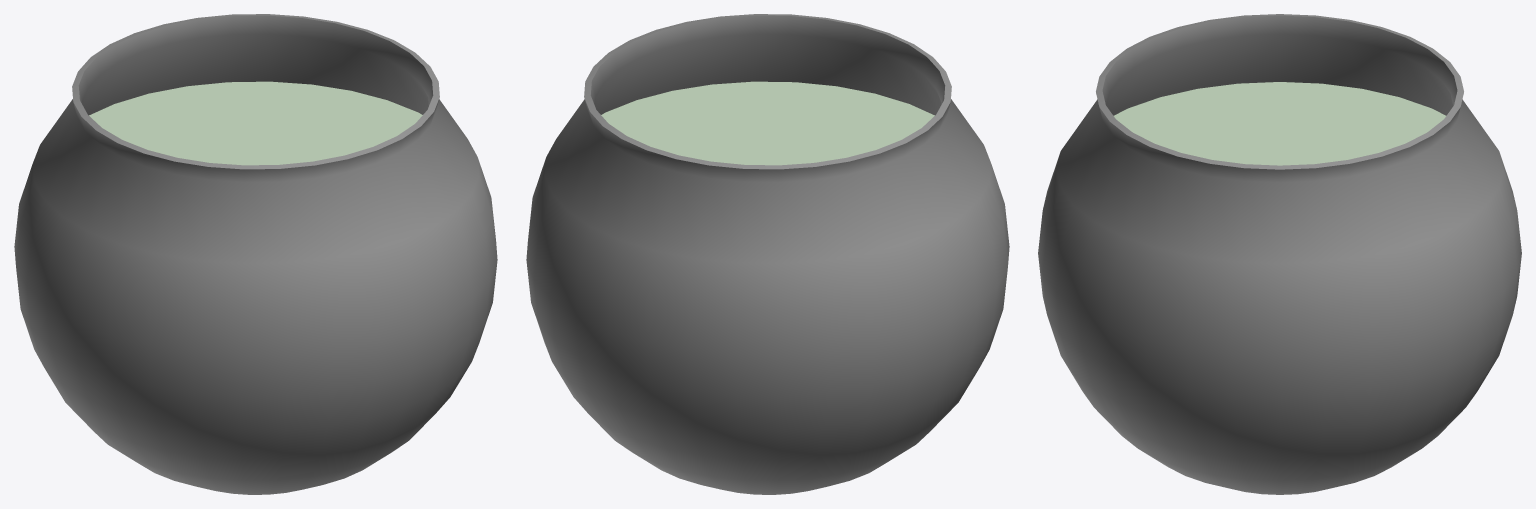
File: Fishbowl.FBX
3 renders of one model, left to right at view 1: azimuth 30°, elevation 25°; view 2: azimuth 150°, elevation 25°; view 3: azimuth 270°, elevation 25°, orthographic.
Parts seen in each view (by area): view 1: fishbowl; view 2: fishbowl; view 3: fishbowl.
Boxes of the visible parts, bbox=[...] form: fishbowl: bbox=[14, 14, 497, 494]; fishbowl: bbox=[526, 14, 1009, 494]; fishbowl: bbox=[1038, 14, 1521, 494].
Bounding box in the file's own units: 32.19 × 26.84 × 32.19.
